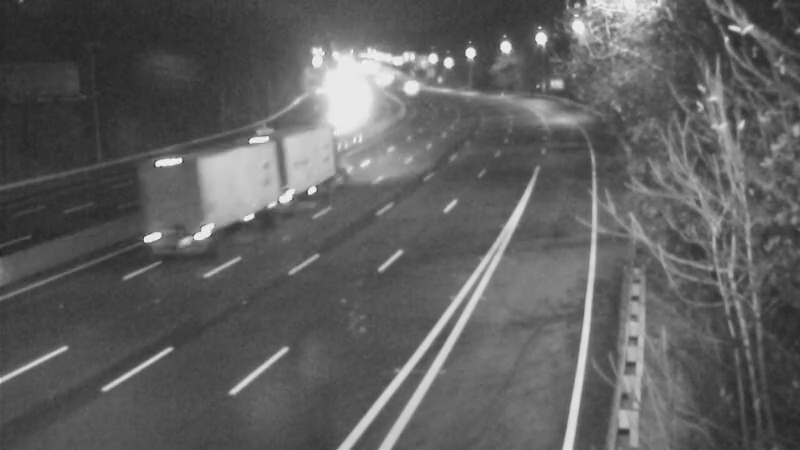vehicle: (207, 144, 287, 224), (388, 64, 438, 114), (317, 89, 367, 139)
